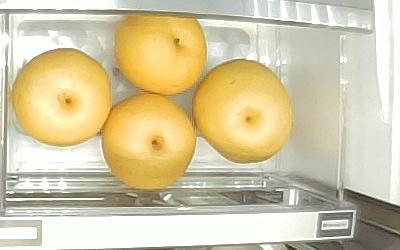pear: (193, 59, 293, 164), (10, 47, 112, 148), (101, 93, 197, 190), (114, 14, 207, 96)
